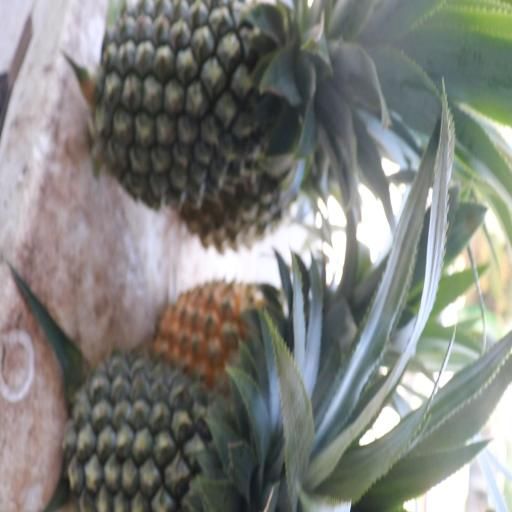Pineapple - v8 v1: (161, 260, 298, 400)
